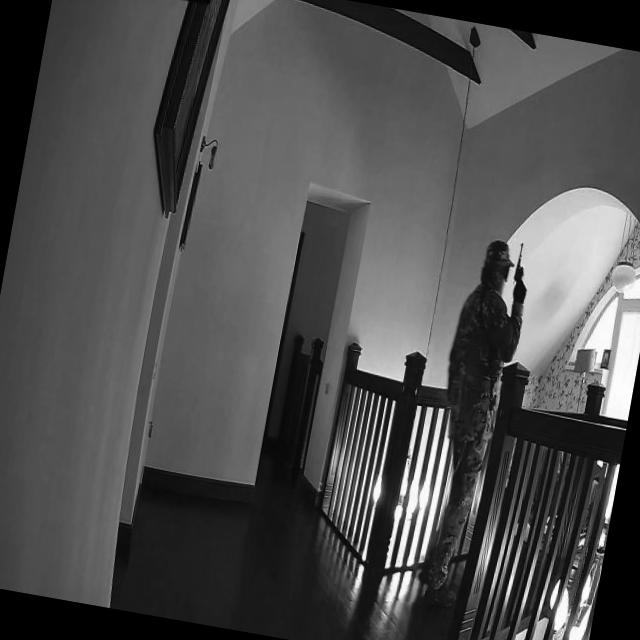gun: (505, 238, 534, 300)
person with a gun: (406, 233, 538, 612)
